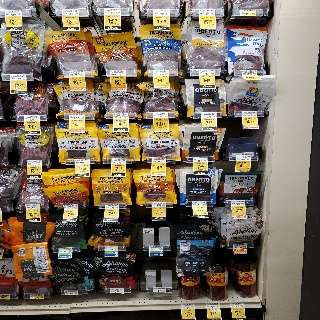All PRICE TAGS: (62, 8, 79, 15), (110, 70, 126, 77), (103, 8, 121, 14), (9, 74, 26, 80), (153, 9, 170, 15), (240, 9, 257, 15), (63, 289, 79, 295), (235, 155, 251, 161), (199, 9, 215, 15), (68, 71, 84, 77), (153, 70, 169, 76), (199, 70, 215, 76), (242, 111, 258, 117), (109, 288, 124, 294), (192, 201, 207, 207), (27, 160, 42, 166), (113, 113, 128, 119), (201, 112, 216, 118), (5, 11, 22, 16), (231, 200, 245, 206), (24, 116, 40, 121), (69, 114, 85, 119), (153, 113, 169, 118), (74, 159, 90, 164), (151, 202, 166, 207), (63, 204, 78, 209), (192, 157, 207, 162), (111, 159, 126, 164), (242, 70, 257, 75), (230, 303, 244, 308), (206, 303, 220, 308), (181, 303, 195, 308), (152, 288, 166, 293), (233, 243, 247, 248), (105, 204, 119, 209), (152, 158, 166, 163), (178, 241, 191, 246), (149, 246, 162, 251), (105, 246, 118, 251), (59, 248, 72, 253), (31, 294, 44, 299), (25, 205, 40, 209), (0, 294, 9, 300)
